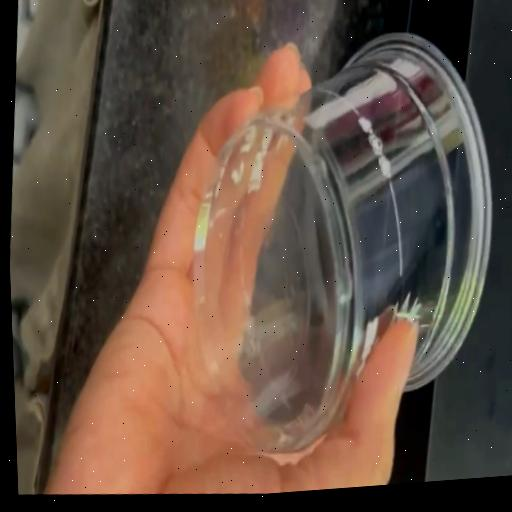ly_nhua: (191, 35, 491, 453)
